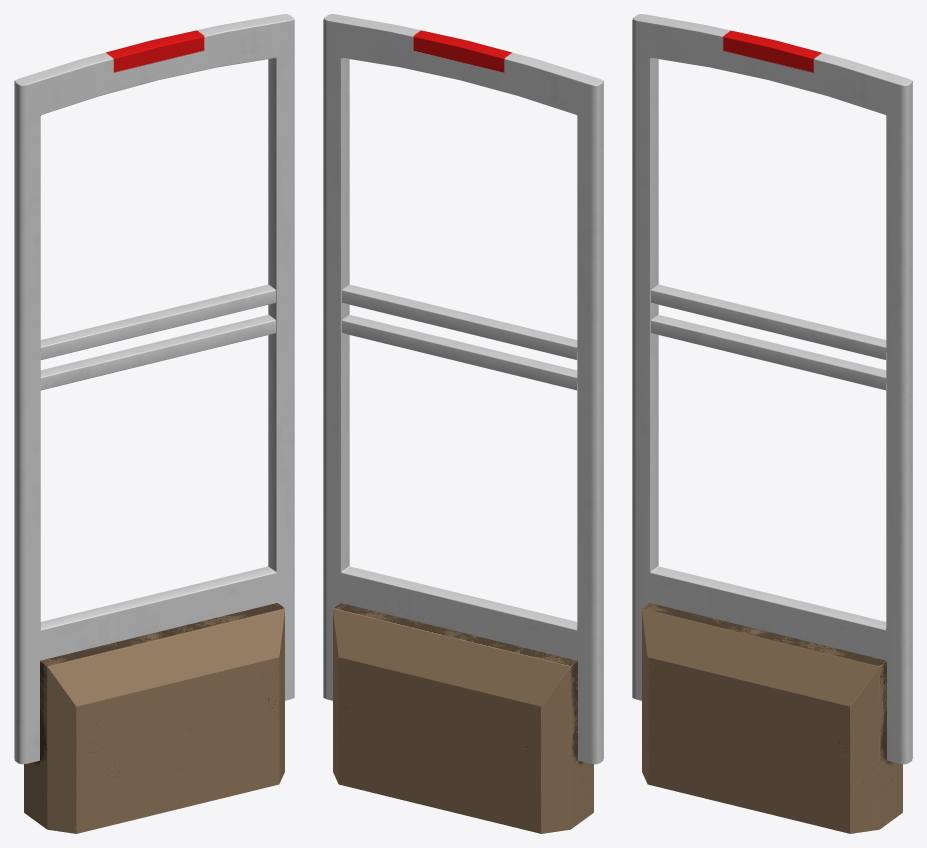
File: SM_SecurityGate_01.fbx
3 renders of one model, left to right at view 1: azimuth 30°, elevation 25°; view 2: azimuth 150°, elevation 25°; view 3: azimuth 330°, elevation 25°, orthographic.
Parts seen in each view (by area): view 1: SM_SecurityGate_01_LOD0; view 2: SM_SecurityGate_01_LOD0; view 3: SM_SecurityGate_01_LOD0.
Boxes of the visible parts, <box> form: SM_SecurityGate_01_LOD0: <box>14,14,294,833</box>; SM_SecurityGate_01_LOD0: <box>323,14,603,833</box>; SM_SecurityGate_01_LOD0: <box>632,14,912,833</box>.
Size of the model in its own units: 68 by 20 by 176.
